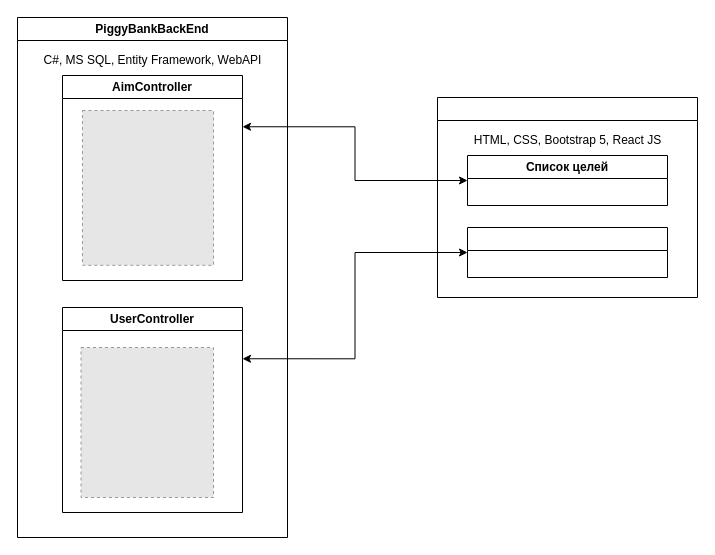
This 715x555 diagram has some shape labels left out. Grey dashed boxes stand in for pictures. Here are the shapes that lost their labels. From the top down, the box of each, then its label:
(436, 96, 698, 298): PiggyBankFrontEnd
(466, 226, 668, 278): Список пользователей
